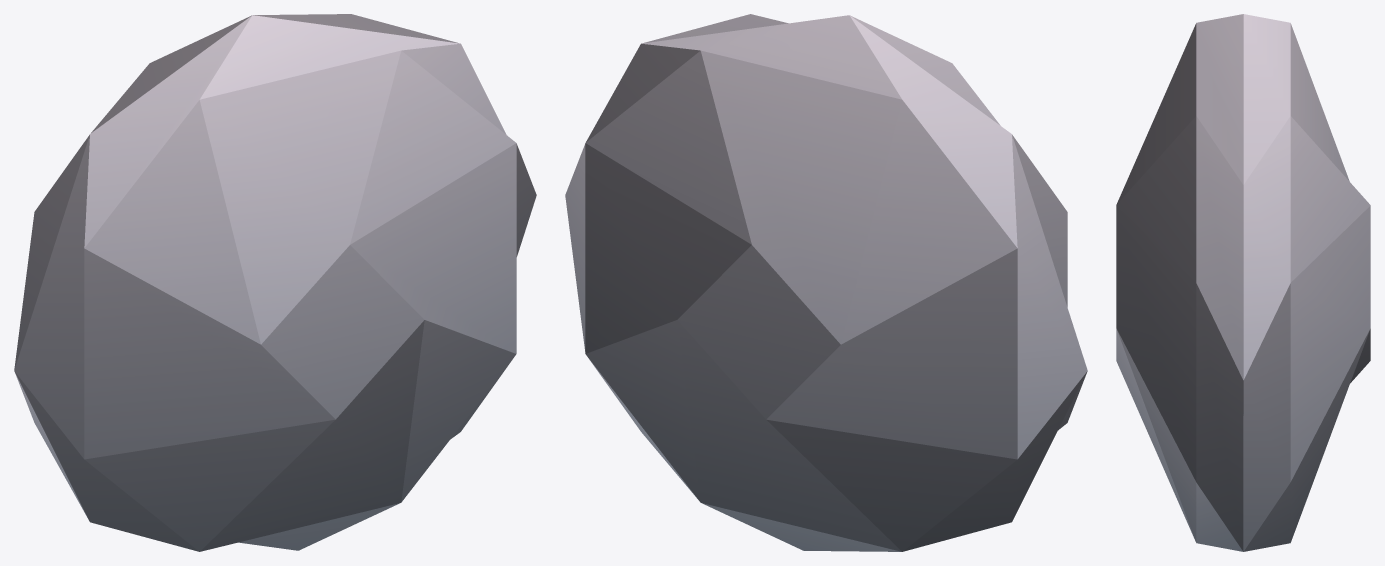
Rendered from Spiral.fbx.
3 renders of one model, left to right at view 1: azimuth 30°, elevation 25°; view 2: azimuth 150°, elevation 25°; view 3: azimuth 270°, elevation 25°, orthographic. The views are drawn at different scales.
Parts seen in each view (by area): view 1: Spiral; view 2: Spiral; view 3: Spiral.
Part boxes in pixels (x1,y1,x2,y2): Spiral: (14, 14, 536, 551); Spiral: (565, 14, 1087, 551); Spiral: (1116, 14, 1370, 551).
Size of the model in its own units: 242 by 242 by 108.
